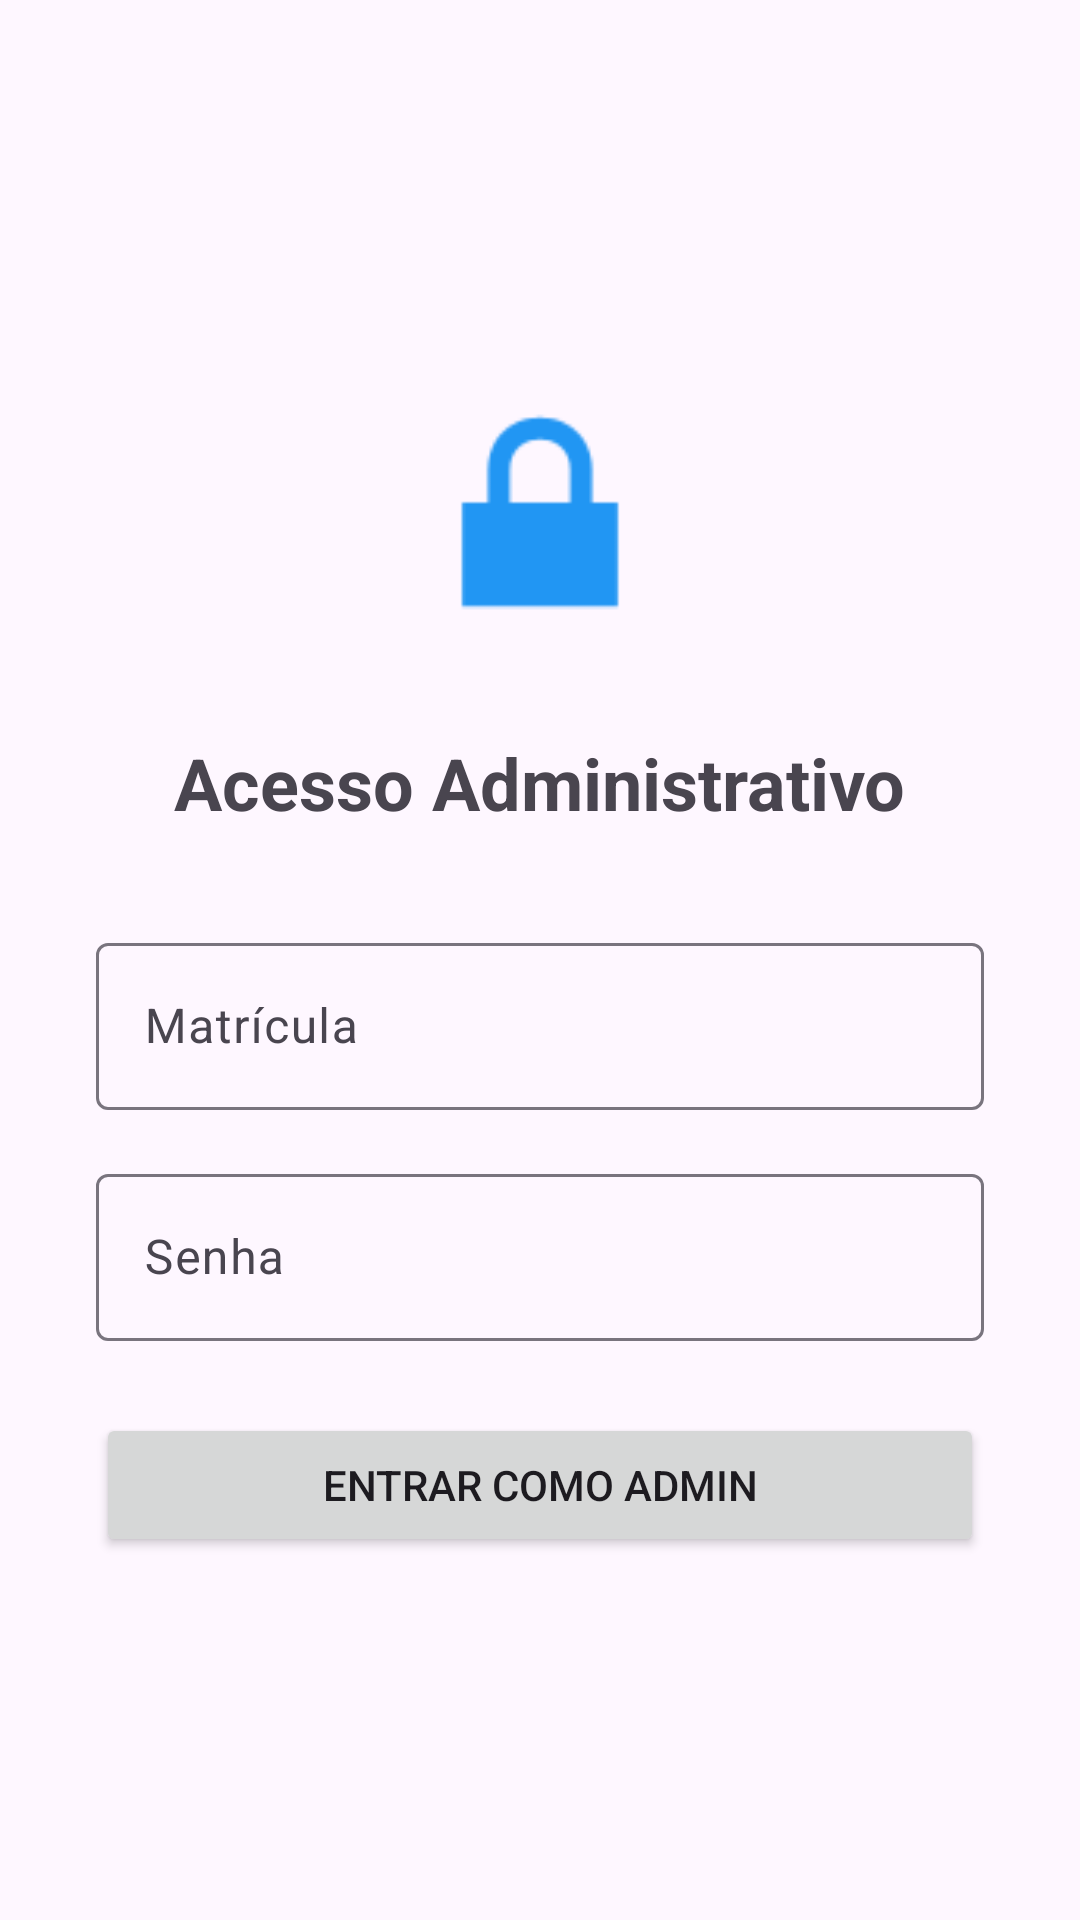

Locate icon controls on the screen. Image size 1080w x 1920h, boxes as (x1, y1, x2, y2).
Admin Icon: (461, 415, 619, 609)
